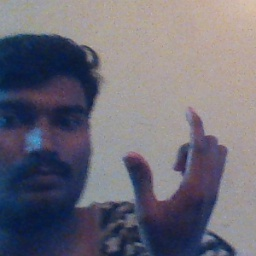U: (121, 106, 235, 235)
